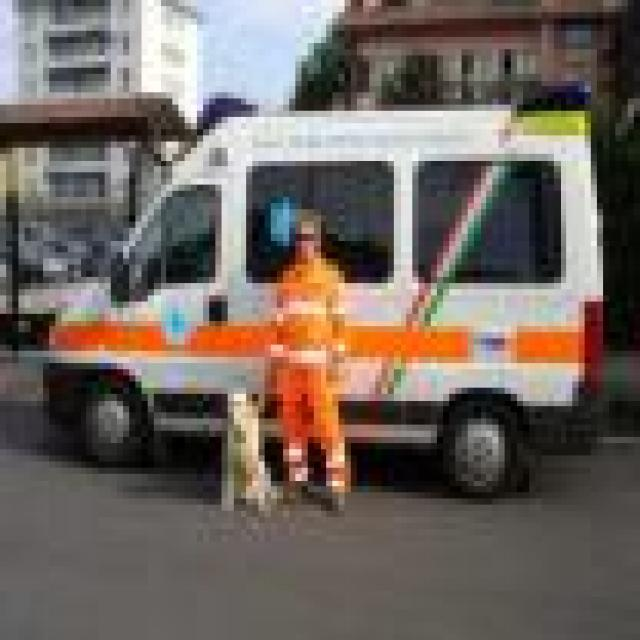emergency-vehicle: (43, 96, 628, 496)
